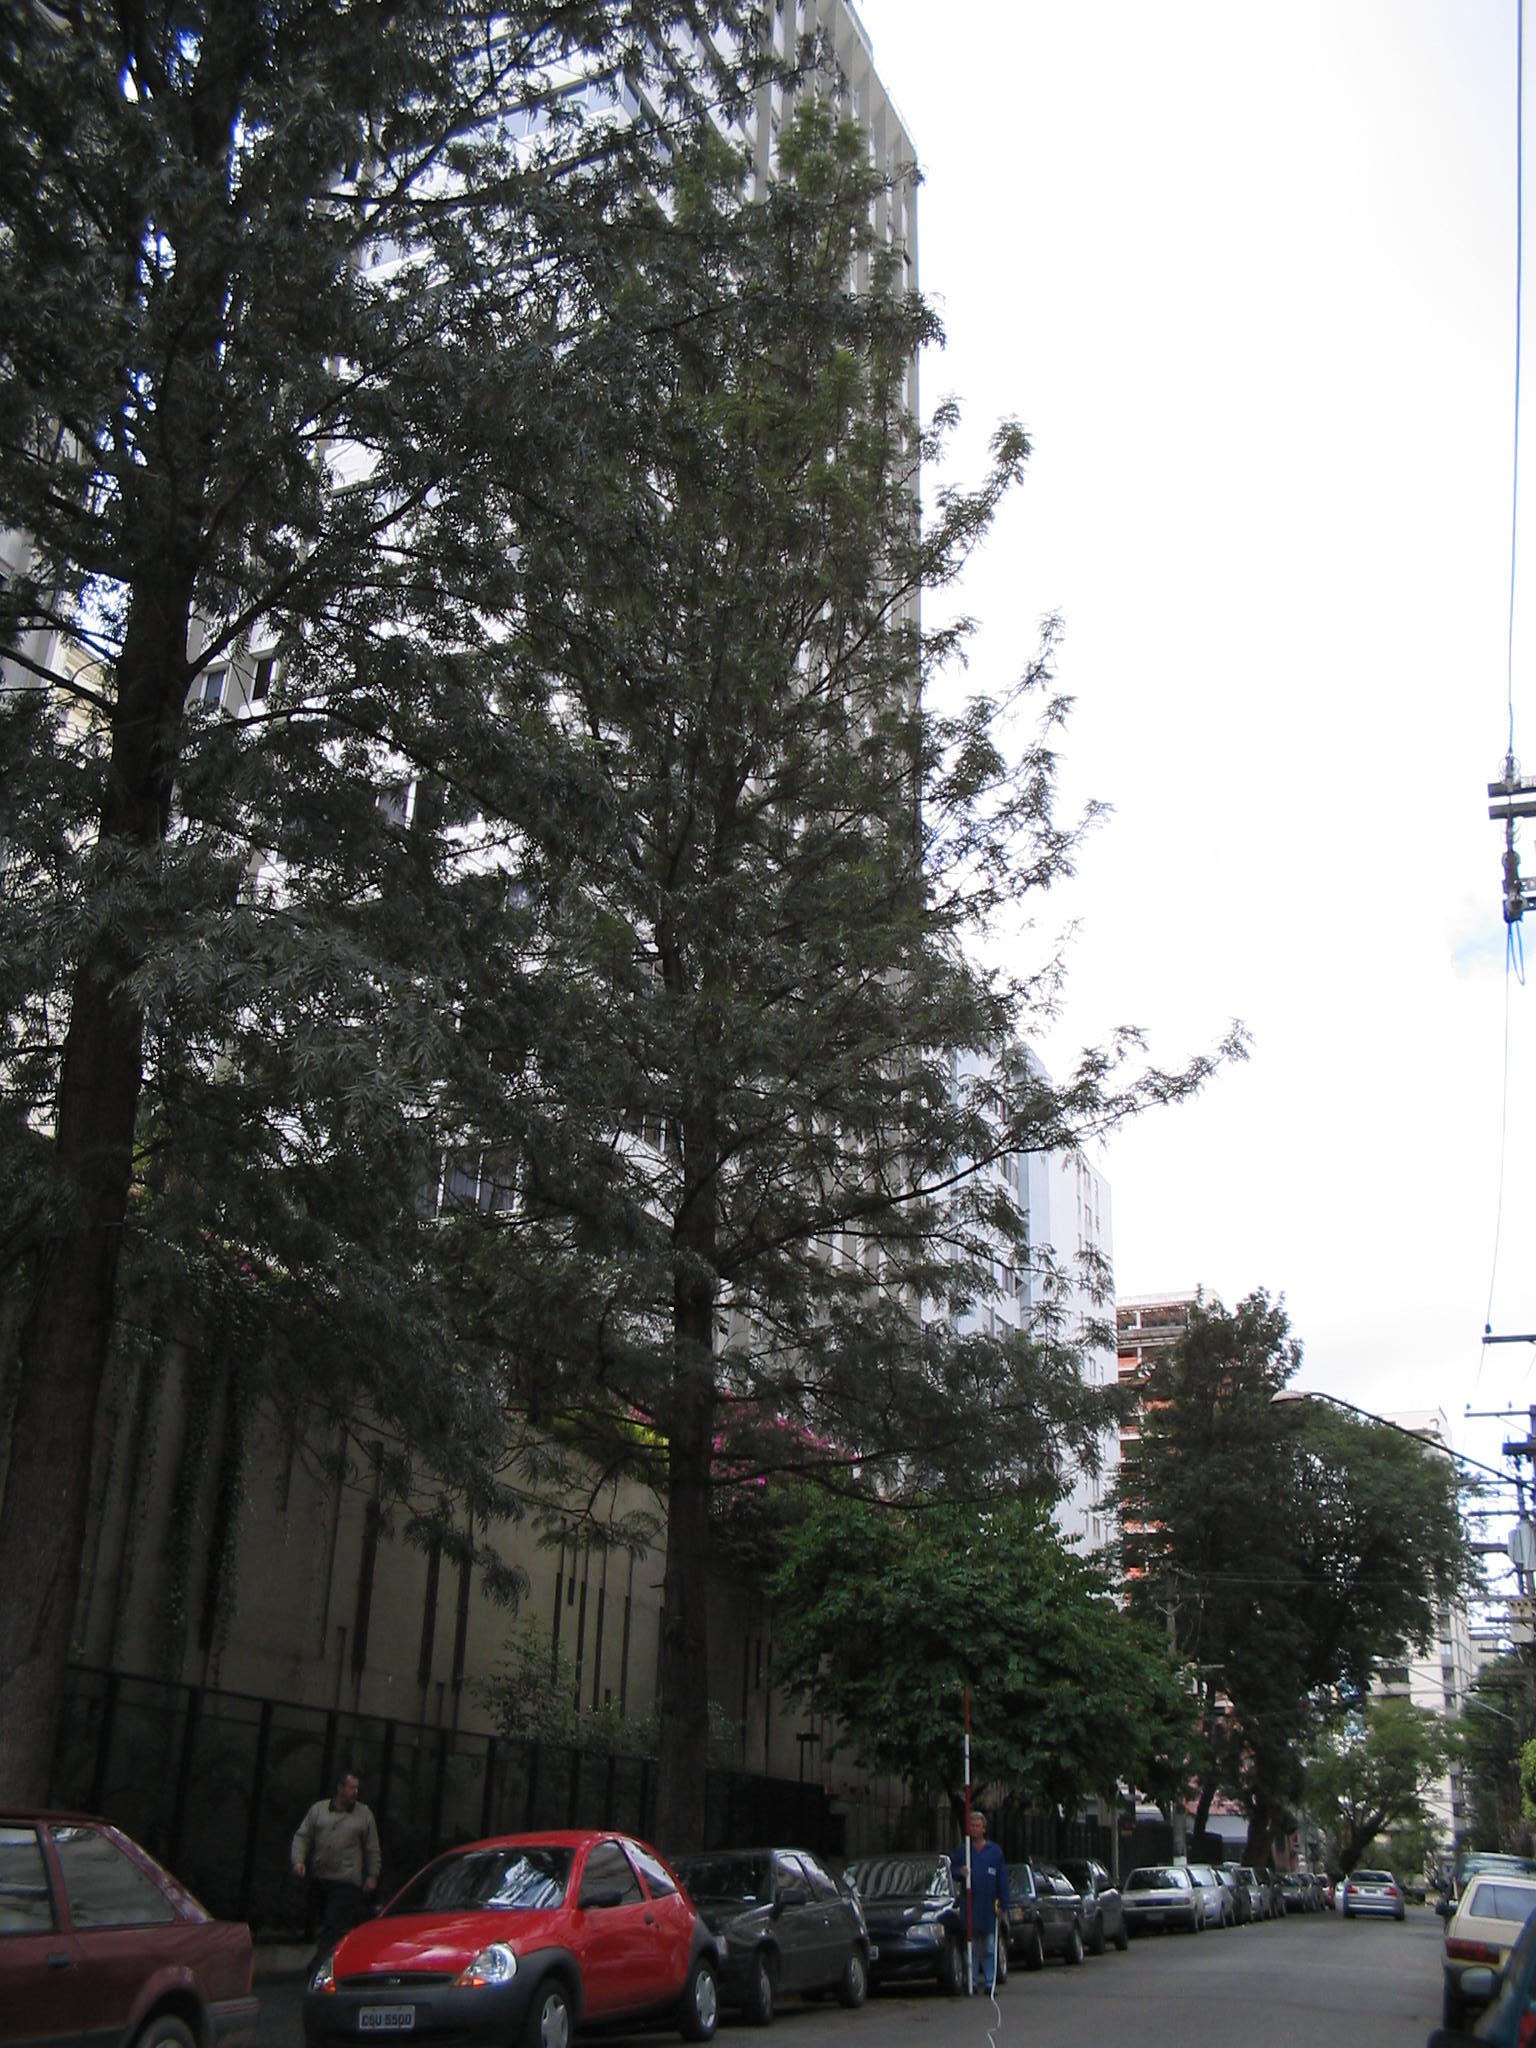crown: (278, 8, 1241, 1526)
stem: (610, 1492, 757, 1992)
stick: (944, 1682, 991, 1990)
tree: (269, 5, 1249, 1992)
